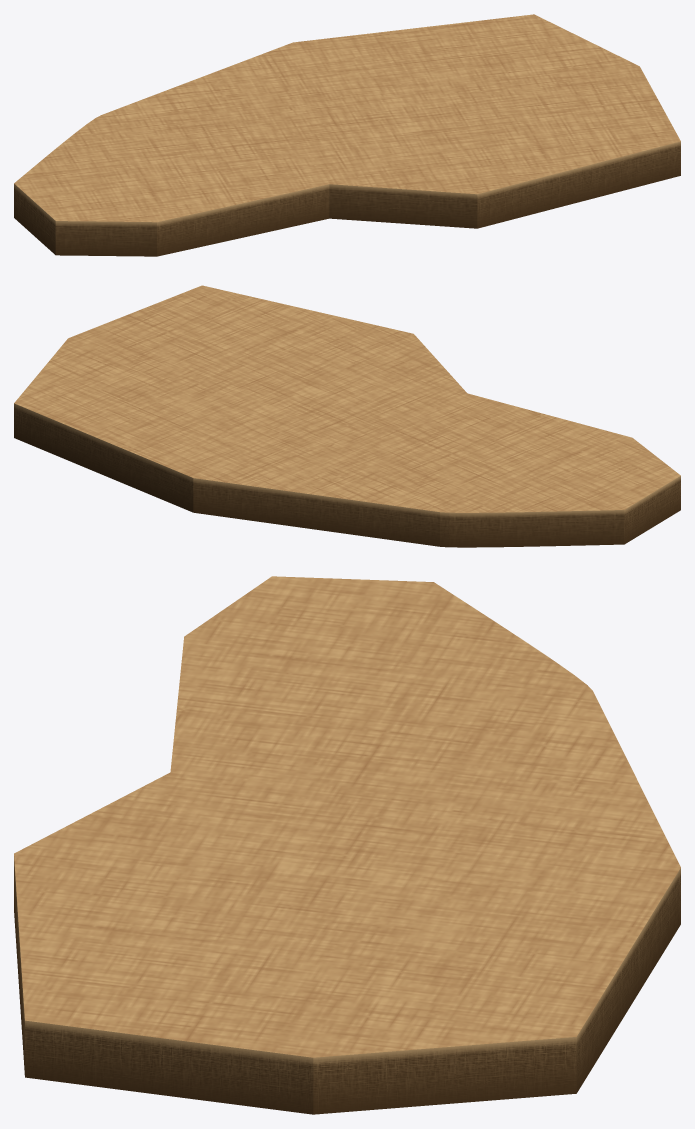
The model's file is Terrain02_A.FBX.
3 renders of one model, top to bottom at view 1: azimuth 30°, elevation 25°; view 2: azimuth 150°, elevation 25°; view 3: azimuth 270°, elevation 25°, orthographic. The views are drawn at different scales.
Parts seen in each view (by area): view 1: Terrain02_A; view 2: Terrain02_A; view 3: Terrain02_A.
Part boxes in pixels (x1,y1,x2,y2): Terrain02_A: (14, 14, 680, 256); Terrain02_A: (14, 285, 680, 547); Terrain02_A: (14, 576, 680, 1114).
Size of the model in its own units: 917 by 50.55 by 537.
Materials: 1 (1 with a texture image).
